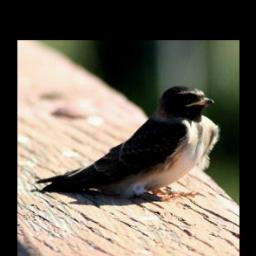Swallow: (32, 84, 220, 203)
